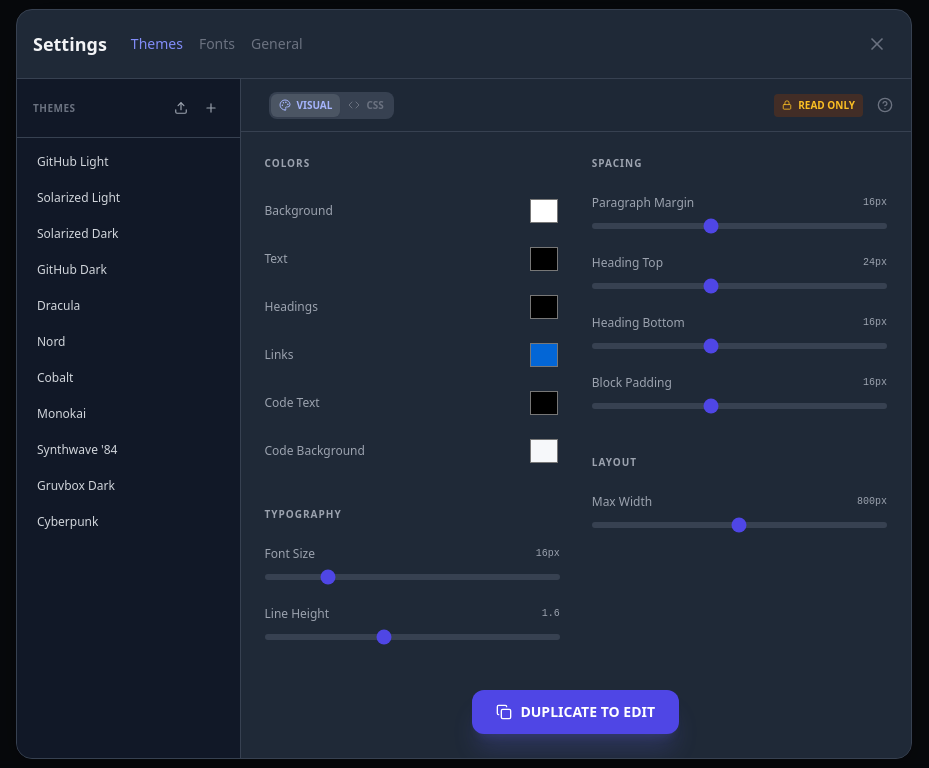
Test case: SettingsModal › shows system fonts when clicking plus button in fonts tab
Click the button "Fonts" at (217, 44), box [199,34,235,54]
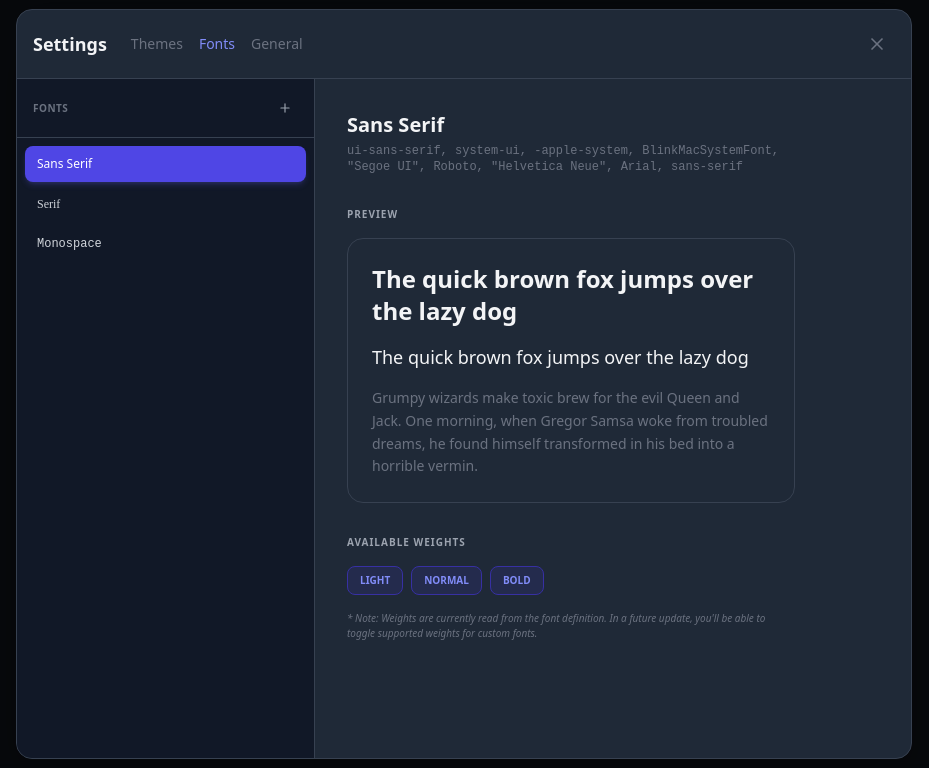
Click the button titled "Add Font" at (285, 108), box [272,95,298,121]
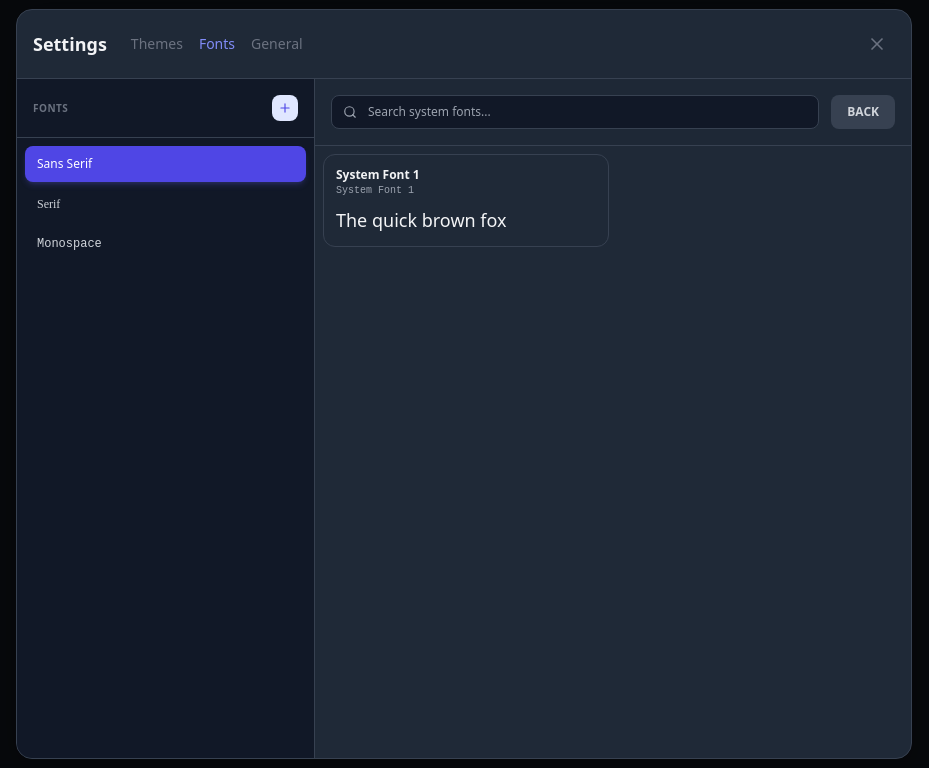
Now the 1st text "System Font 1" is shown, box [336,167,420,183]
